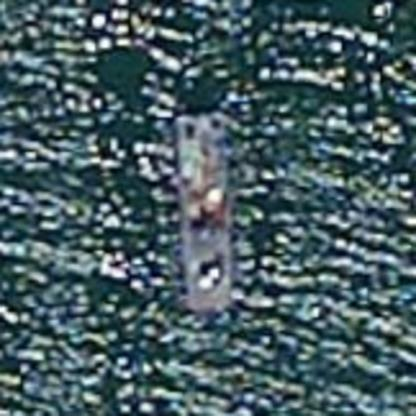ship: (158, 104, 250, 324)
